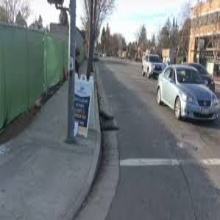no damage: (157, 65, 220, 126), (142, 52, 162, 79)
